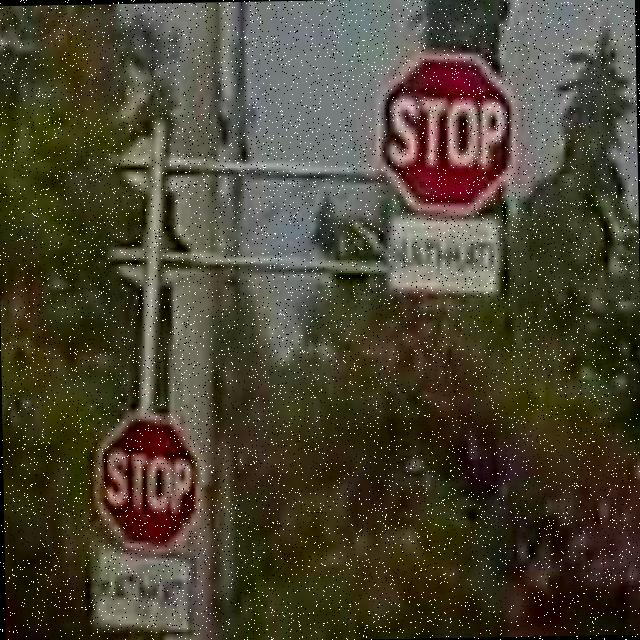Stop: (379, 50, 517, 210), (98, 408, 206, 550)
